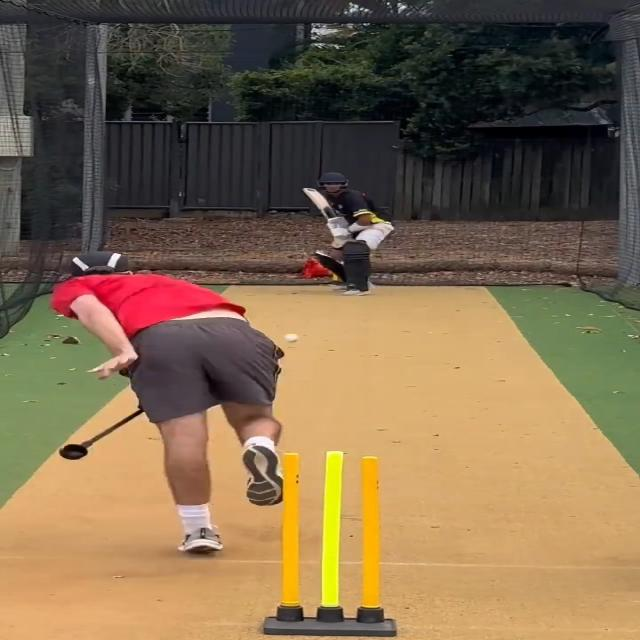ball: (284, 332, 300, 343)
stump: (270, 450, 399, 640)
